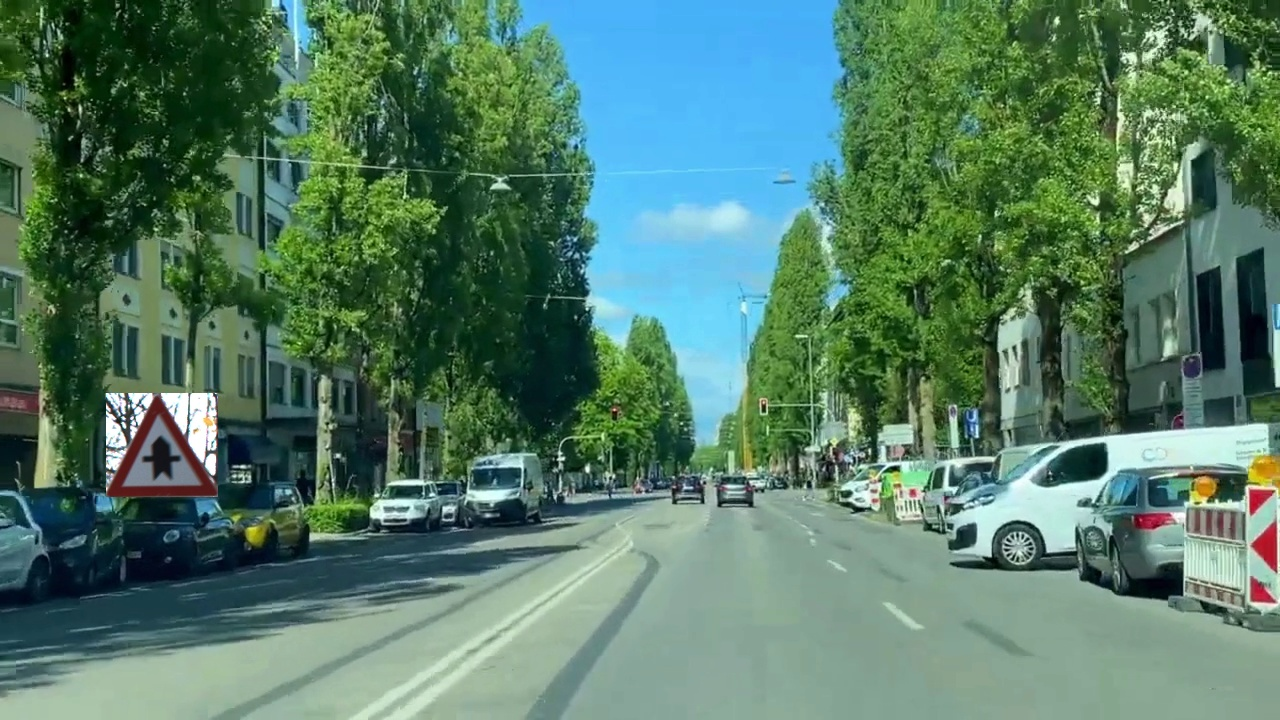Right-of-way: (106, 393, 218, 497)
